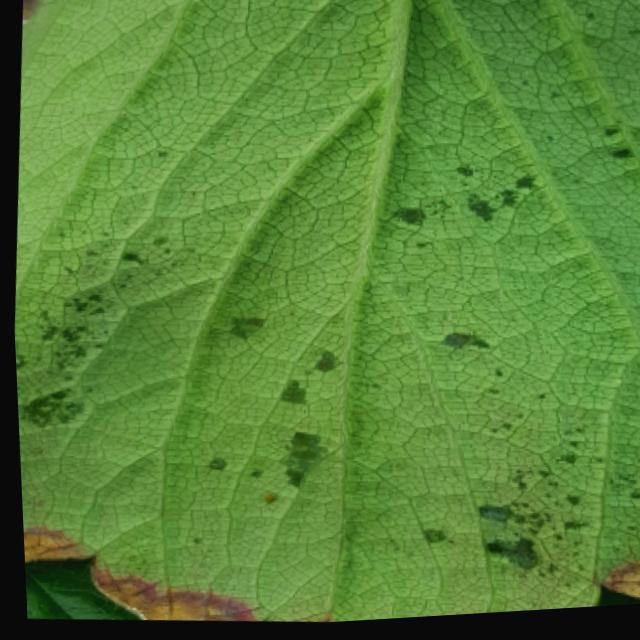Angular Leafspot: (11, 0, 640, 617)
